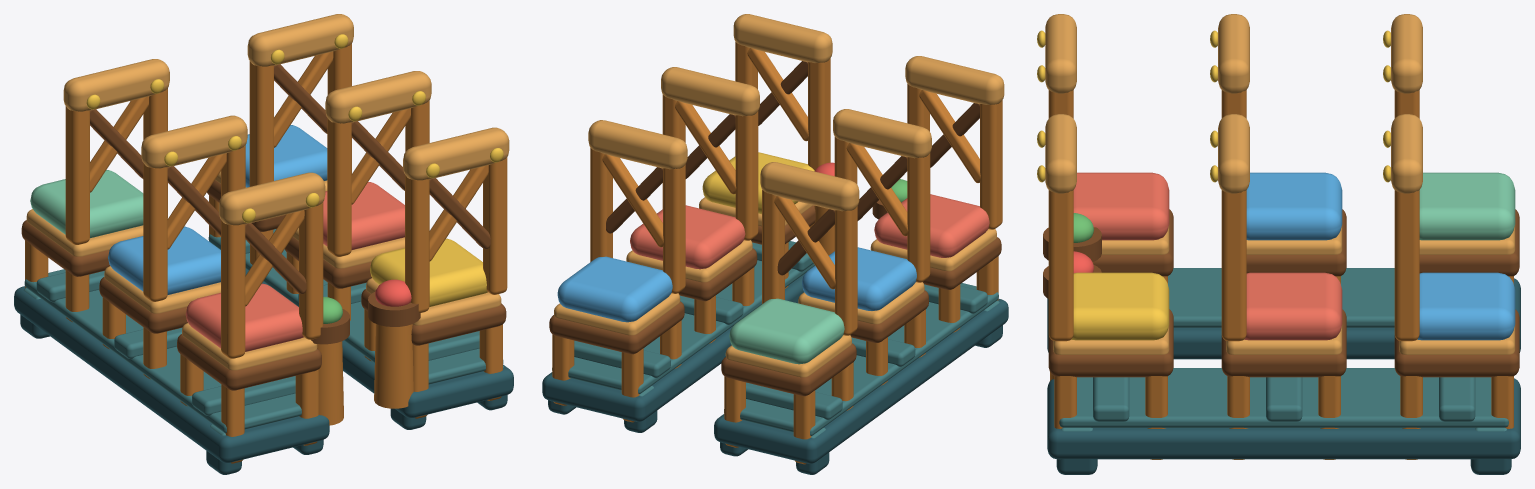
File: audience-seating.glb
3 views of the same model, side by side, from view 1: azimuth 30°, elevation 25°; view 2: azimuth 150°, elevation 25°; view 3: azimuth 270°, elevation 25° (orthographic). The views are drawn at different scales.
Visible parts, largest first — view 1: two-shared-support-rails-center-aisle-and-floor-feet-surface (×8), chair-1-colored-seat-cushion-surface-0, chair-2-colored-seat-cushion-surface-0, chair-3-colored-seat-cushion-surface-0, chair-4-colored-seat-cushion-surface-0, chair-1-finished-x-braced-backrest-surface-4, chair-2-finished-x-braced-backrest-surface-4, chair-4-finished-x-braced-backrest-surface-4, chair-3-finished-x-braced-backrest-surface-4, chair-5-finished-x-braced-backrest-surface-4, chair-6-finished-x-braced-backrest-surface-4, chair-2-finished-x-braced-backrest-surface-0 (+50 smaller); view 2: two-shared-support-rails-center-aisle-and-floor-feet-surface (×9), chair-3-colored-seat-cushion-surface-0, chair-6-colored-seat-cushion-surface-0, chair-5-colored-seat-cushion-surface-0, chair-2-colored-seat-cushion-surface-0, chair-1-colored-seat-cushion-surface-0, chair-3-finished-x-braced-backrest-surface-4, chair-6-finished-x-braced-backrest-surface-4, chair-1-finished-x-braced-backrest-surface-4, chair-4-finished-x-braced-backrest-surface-4, chair-2-finished-x-braced-backrest-surface-4, chair-5-finished-x-braced-backrest-surface-4 (+48 smaller); view 3: two-shared-support-rails-center-aisle-and-floor-feet-surface (×9), chair-4-colored-seat-cushion-surface-0, chair-5-colored-seat-cushion-surface-0, chair-6-colored-seat-cushion-surface-0, chair-2-colored-seat-cushion-surface-0, chair-3-colored-seat-cushion-surface-0, chair-1-colored-seat-cushion-surface-0, chair-4-finished-x-braced-backrest-surface-2, chair-5-finished-x-braced-backrest-surface-2, chair-6-finished-x-braced-backrest-surface-2, chair-4-honey-wood-frame-surface-0, chair-5-honey-wood-frame-surface-0 (+27 smaller).
Part boxes in pixels (x1,y1,x2,y2): two-shared-support-rails-center-aisle-and-floor-feet-surface (×8): [14, 234, 513, 462]; chair-1-colored-seat-cushion-surface-0: [185, 283, 303, 351]; chair-2-colored-seat-cushion-surface-0: [108, 226, 220, 295]; chair-3-colored-seat-cushion-surface-0: [30, 170, 143, 238]; chair-4-colored-seat-cushion-surface-0: [370, 238, 487, 306]; chair-1-finished-x-braced-backrest-surface-4: [219, 172, 325, 225]; chair-2-finished-x-braced-backrest-surface-4: [141, 115, 247, 168]; chair-4-finished-x-braced-backrest-surface-4: [403, 127, 509, 180]; chair-3-finished-x-braced-backrest-surface-4: [63, 59, 169, 111]; chair-5-finished-x-braced-backrest-surface-4: [325, 71, 431, 123]; chair-6-finished-x-braced-backrest-surface-4: [247, 14, 353, 66]; chair-2-finished-x-braced-backrest-surface-0: [143, 163, 167, 301]; two-shared-support-rails-center-aisle-and-floor-feet-surface (×9): [542, 241, 1008, 463]; chair-3-colored-seat-cushion-surface-0: [729, 298, 844, 364]; chair-6-colored-seat-cushion-surface-0: [557, 256, 672, 322]; chair-5-colored-seat-cushion-surface-0: [630, 205, 745, 269]; chair-2-colored-seat-cushion-surface-0: [802, 247, 916, 310]; chair-1-colored-seat-cushion-surface-0: [874, 194, 989, 257]; chair-3-finished-x-braced-backrest-surface-4: [760, 162, 859, 211]; chair-6-finished-x-braced-backrest-surface-4: [588, 120, 687, 169]; chair-1-finished-x-braced-backrest-surface-4: [905, 56, 1004, 104]; chair-4-finished-x-braced-backrest-surface-4: [733, 14, 832, 62]; chair-2-finished-x-braced-backrest-surface-4: [833, 109, 931, 158]; chair-5-finished-x-braced-backrest-surface-4: [661, 67, 759, 116]; two-shared-support-rails-center-aisle-and-floor-feet-surface (×9): [1047, 268, 1520, 474]; chair-4-colored-seat-cushion-surface-0: [1071, 272, 1169, 340]; chair-5-colored-seat-cushion-surface-0: [1244, 272, 1342, 340]; chair-6-colored-seat-cushion-surface-0: [1417, 272, 1515, 340]; chair-2-colored-seat-cushion-surface-0: [1246, 172, 1342, 240]; chair-3-colored-seat-cushion-surface-0: [1419, 172, 1515, 240]; chair-1-colored-seat-cushion-surface-0: [1073, 172, 1169, 240]; chair-4-finished-x-braced-backrest-surface-2: [1048, 190, 1073, 341]; chair-5-finished-x-braced-backrest-surface-2: [1221, 190, 1246, 341]; chair-6-finished-x-braced-backrest-surface-2: [1394, 190, 1419, 341]; chair-4-honey-wood-frame-surface-0: [1048, 309, 1173, 377]; chair-5-honey-wood-frame-surface-0: [1221, 309, 1346, 377].
Size of the model in its own units: 1.37 by 1.25 by 1.75.
